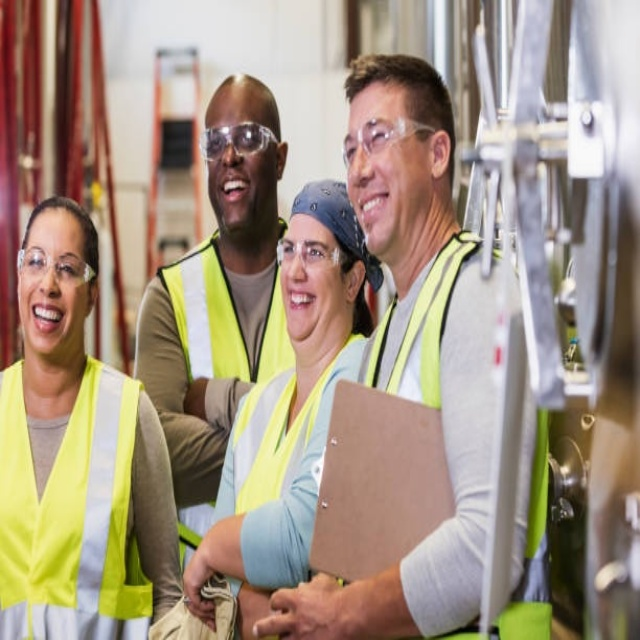Gafas: (341, 117, 436, 172), (199, 122, 280, 162), (15, 249, 96, 285), (275, 238, 344, 270)
Sin_guantes: (251, 570, 351, 640), (181, 563, 222, 628)
Sin_mascara: (352, 183, 398, 245), (283, 282, 316, 335), (27, 298, 64, 344), (214, 172, 253, 215)
